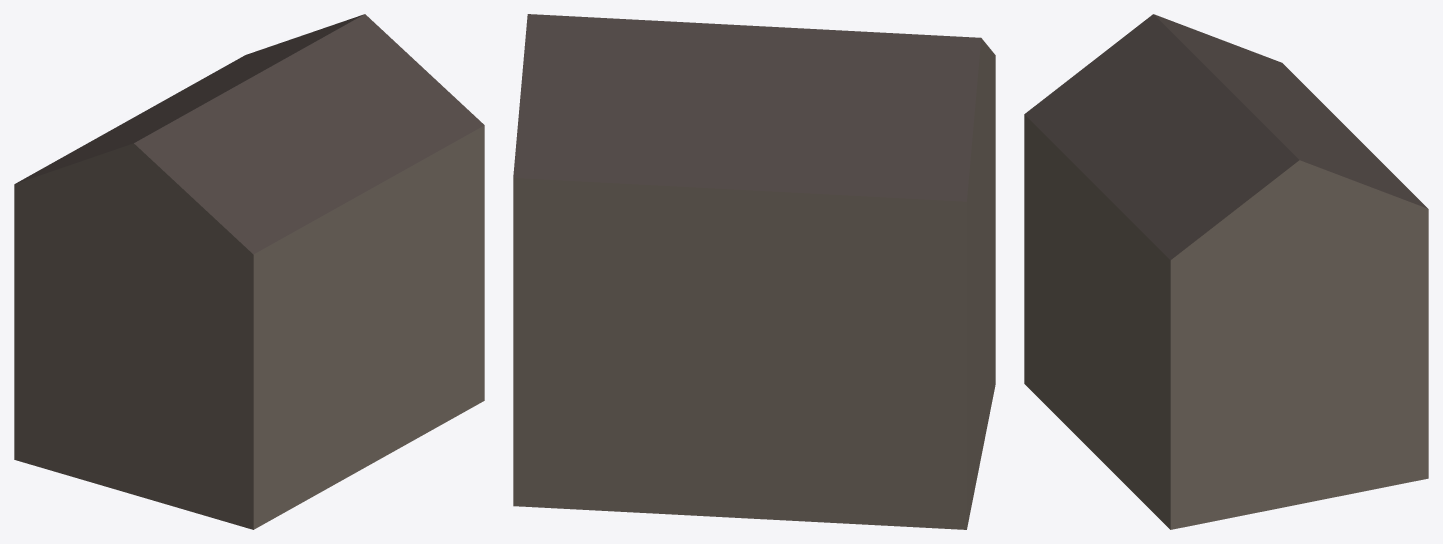
The picture shows the model from 3 angles, left to right: view 1: azimuth 30°, elevation 25°; view 2: azimuth 150°, elevation 25°; view 3: azimuth 270°, elevation 25°; orthographic projection. The views are drawn at different scales.
Parts seen in each view (by area): view 1: HP-w505653360; view 2: HP-w505653360; view 3: HP-w505653360.
Part boxes in pixels (box(x1,y1,x2,y2)): HP-w505653360: box(14, 14, 484, 529); HP-w505653360: box(513, 14, 995, 529); HP-w505653360: box(1024, 14, 1428, 529).
Size of the model in its own units: 14.14 by 11.49 by 12.23.
